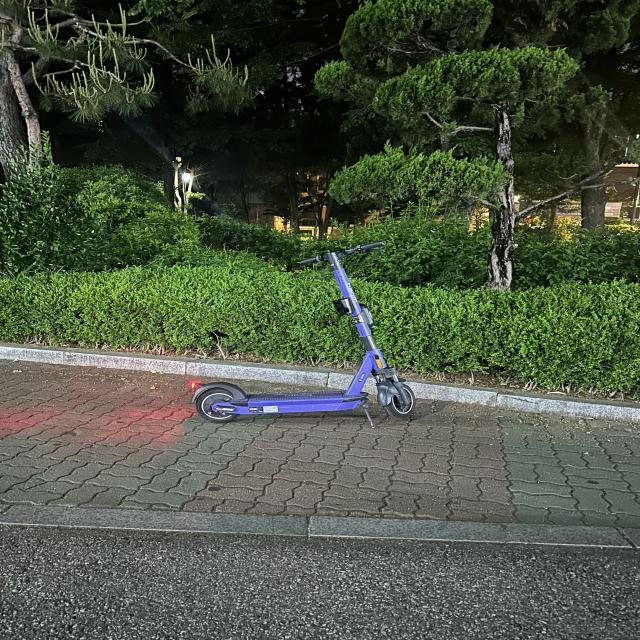curb: (0, 505, 640, 549), (0, 344, 353, 390), (408, 380, 640, 421)
kick-board: (190, 242, 415, 422)
sidewalk: (2, 360, 638, 528)
verge: (2, 525, 638, 640)
